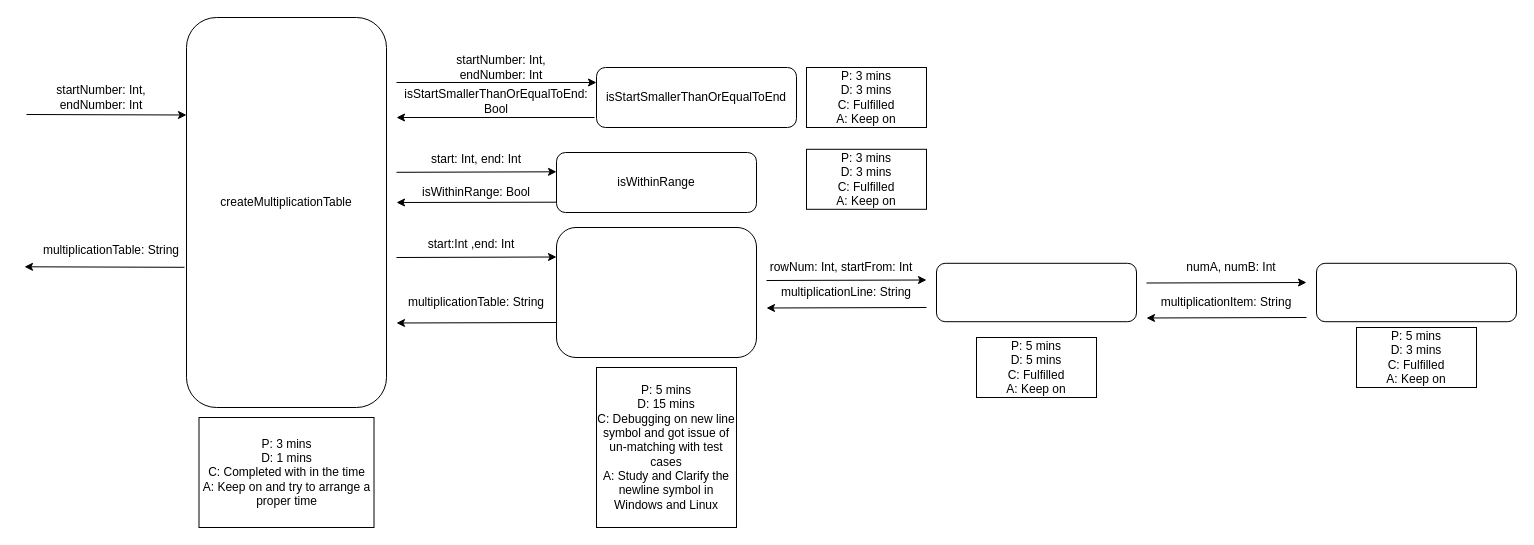
The diagram is 1534 pixels wide and 545 high, and some of its shapes have lost their labels. The shapes that lost their labels are listed below. From the top down, each one's box as (x1, y1, x2, y2) in pixels, then its label:
(556, 226, 756, 358): getMultiplicationTable
(936, 262, 1136, 322): getMultiplicationLine
(1316, 262, 1516, 322): getMultiplicationResult
